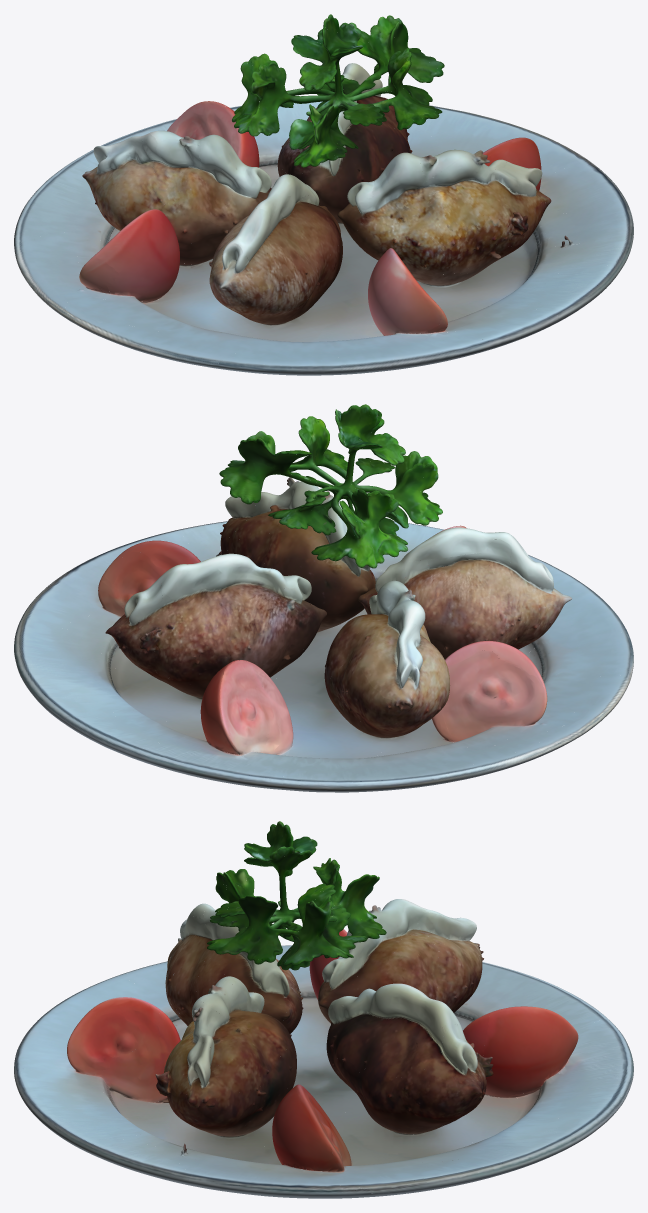
The model's file is kotlet.glb.
3 views of the same model, one above another, from view 1: azimuth 30°, elevation 25°; view 2: azimuth 150°, elevation 25°; view 3: azimuth 270°, elevation 25° (orthographic).
Visible parts, largest first — view 1: kotlet; view 2: kotlet; view 3: kotlet.
Part boxes in pixels (left/top/right/bottom): kotlet: left=14, top=14, right=633, bottom=375; kotlet: left=14, top=404, right=633, bottom=792; kotlet: left=14, top=821, right=633, bottom=1198.
Size of the model in its own units: 0.9801 by 0.4743 by 0.9793.
1 material, 1 textured.
